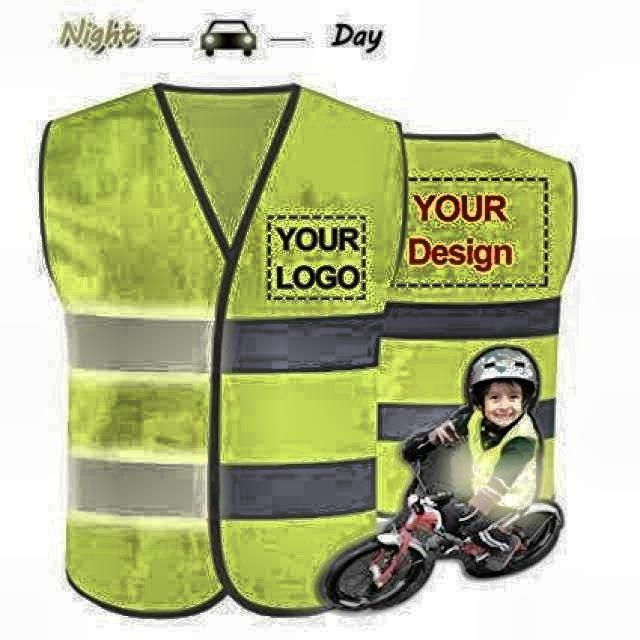safety_jacket: (53, 116, 490, 550)
